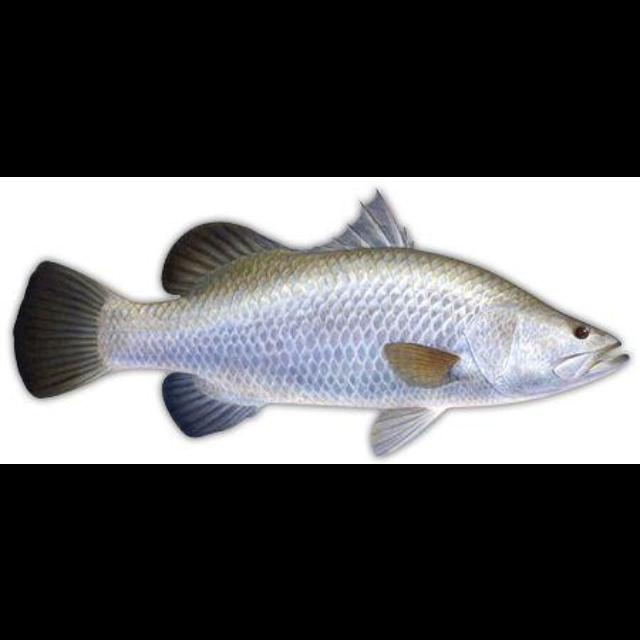Seabass: (15, 186, 631, 458)
